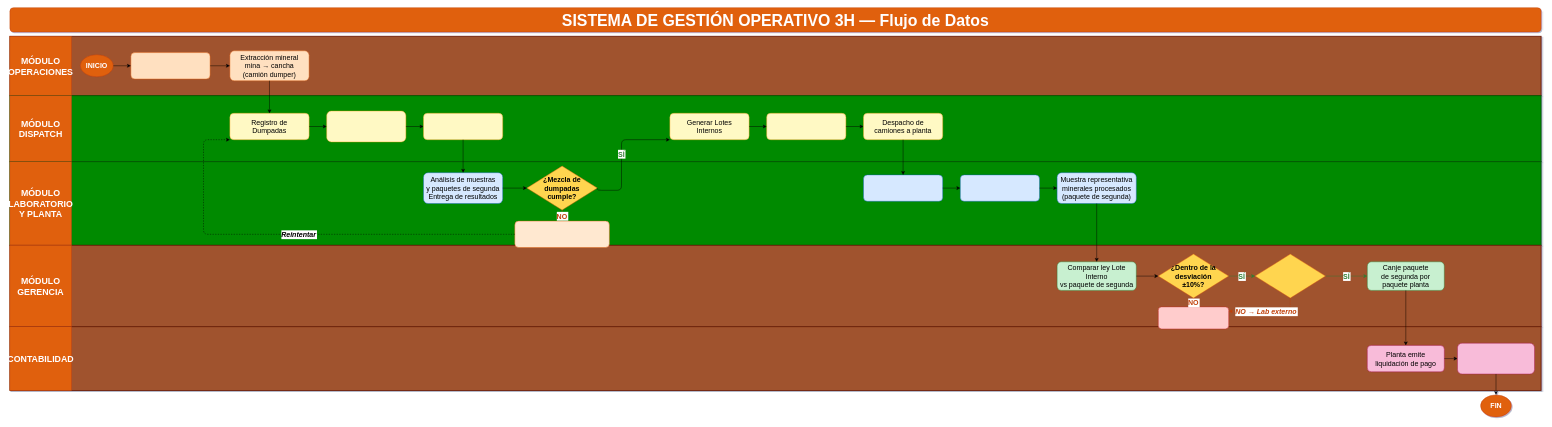
The diagram is 1552 pixels wide and 427 high, and some of its shapes have lost their labels. The shapes that lost their labels are listed below. From the top down, each one's centre as x and y in pixels, then its label:
the point at 170,65: Registro de Perforación y Tronadura
the point at 366,126: Toma de Muestra (se mantiene en cancha hasta cumplir ley)
the point at 463,126: Envío de muestra a laboratorio
the point at 806,126: Cargar camiones de distintos lotes
the point at 903,187: Ingresan camiones a planta procesadora
the point at 1000,187: Procesamiento mineral en planta
the point at 561,234: Objetivo: 1.3% Cu Insoluble Mezcla dumpadas = 100 ton Error de muestra = 19%
the point at 1290,276: ¿Dentro del 0.10% aceptable para el lote?
the point at 1193,317: Auditoría Interna
the point at 1495,358: Planta deposita dinero. Contabilidad registra el pago. Dueña emite factura.
